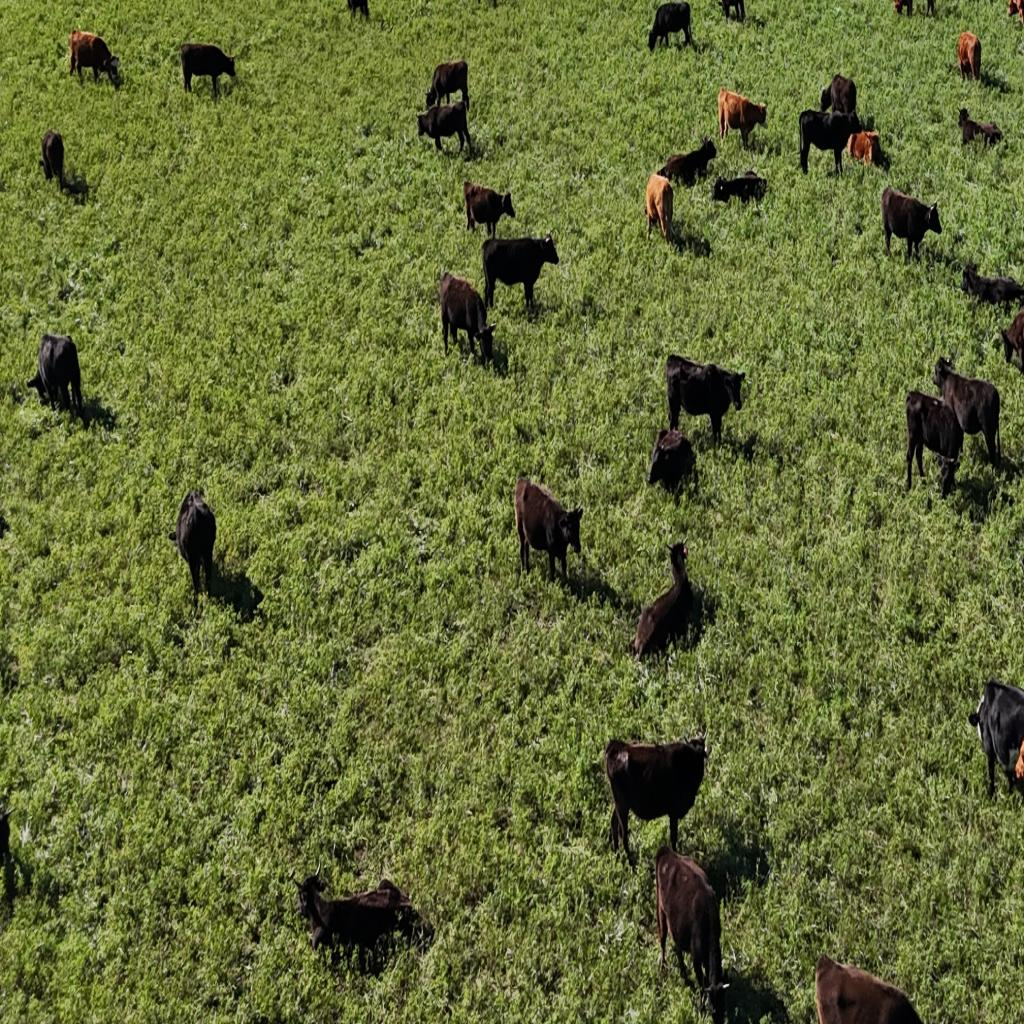cow: (605, 722, 710, 864), (657, 842, 733, 1019), (296, 872, 434, 963), (512, 473, 586, 593), (632, 537, 696, 660), (662, 353, 742, 450), (816, 953, 928, 1022), (934, 356, 1003, 465), (966, 675, 1024, 798), (904, 390, 967, 500), (482, 231, 557, 313), (438, 270, 498, 366), (168, 488, 217, 603), (26, 332, 82, 419), (881, 186, 942, 264), (798, 107, 862, 176), (960, 265, 1024, 316), (180, 42, 236, 98), (657, 136, 717, 188), (68, 28, 120, 88), (418, 100, 473, 156), (647, 428, 692, 494), (464, 181, 515, 239), (718, 88, 767, 148), (425, 59, 469, 111), (644, 172, 674, 246), (648, 2, 691, 52), (712, 170, 768, 206), (958, 108, 1003, 148), (999, 308, 1024, 375), (820, 74, 858, 116), (39, 129, 65, 190), (956, 31, 982, 82), (718, 0, 745, 23), (1004, 0, 1022, 23)
